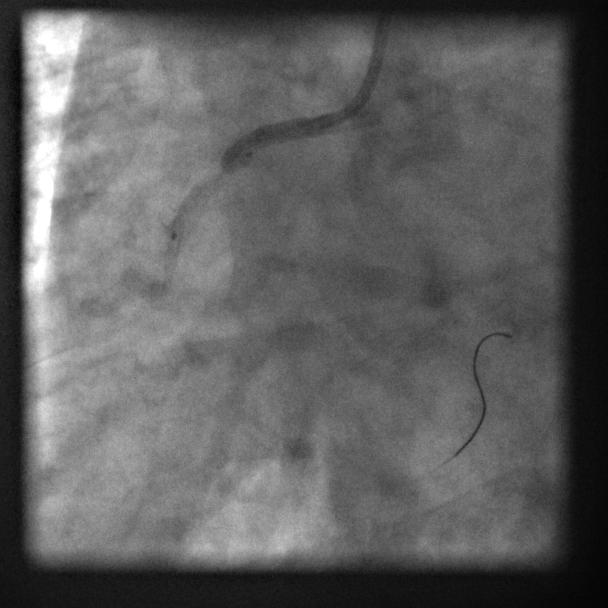Stenosis: (200, 153, 248, 201)
